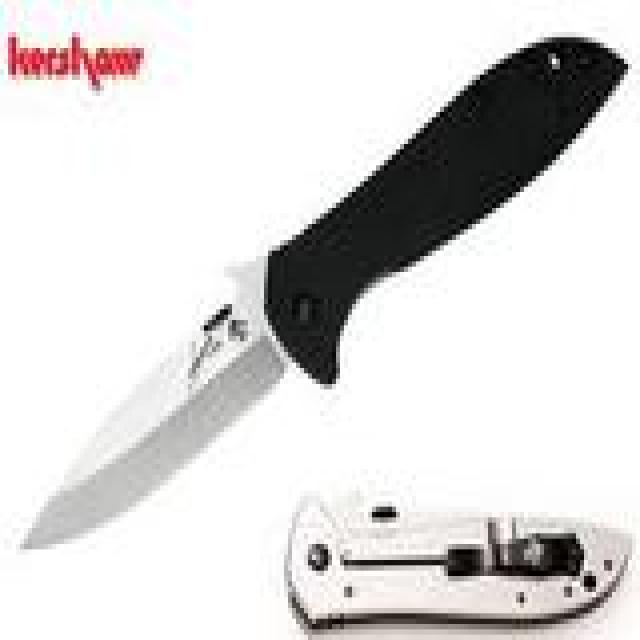Knife: (0, 31, 640, 552)
